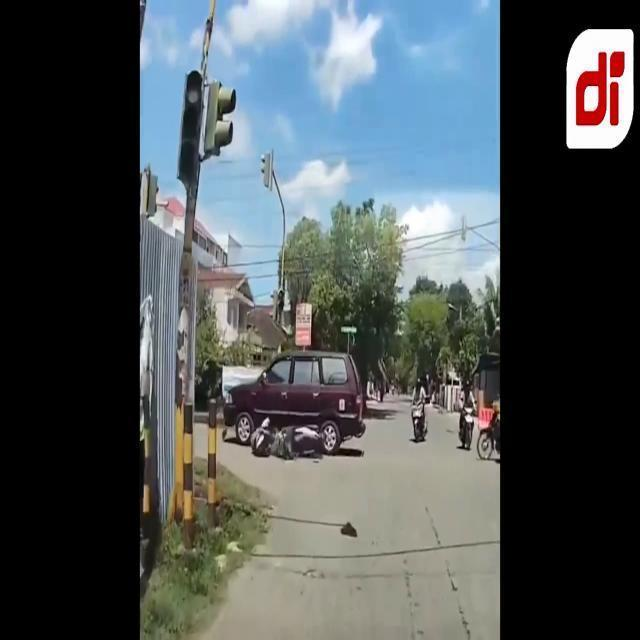accident: (220, 348, 368, 462)
